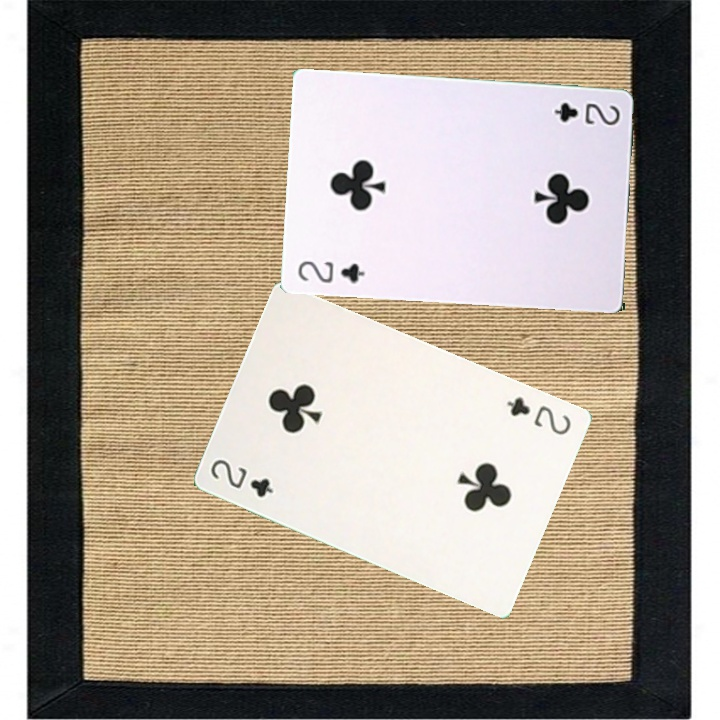2c: (502, 392, 574, 438), (206, 455, 276, 500), (293, 256, 367, 286), (550, 99, 623, 128)
